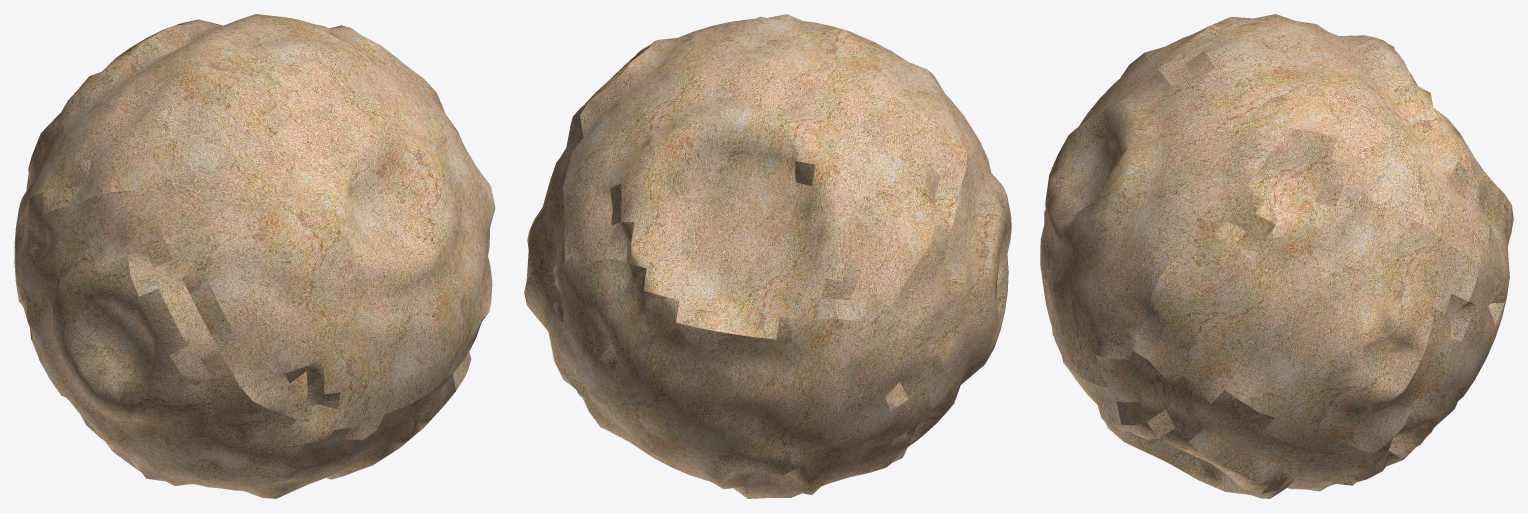
Rendered from planet_big.obj.
3 views of the same model, side by side, from view 1: azimuth 30°, elevation 25°; view 2: azimuth 150°, elevation 25°; view 3: azimuth 270°, elevation 25° (orthographic).
Parts seen in each view (by area): view 1: n0b0_ID10; view 2: n0b0_ID10; view 3: n0b0_ID10.
Part boxes in pixels (bbox=[...]): n0b0_ID10: bbox=[14, 14, 495, 498]; n0b0_ID10: bbox=[524, 14, 1011, 498]; n0b0_ID10: bbox=[1040, 14, 1513, 498].
Size of the model in its own units: 2.05 by 2.05 by 2.03.
1 material, 1 textured.
